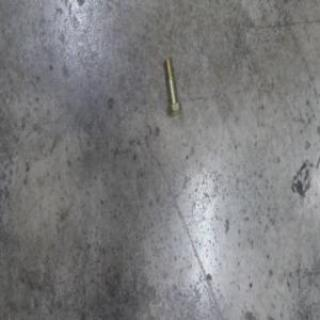Bolttrack_idkeyframe: (163, 56, 181, 116)
